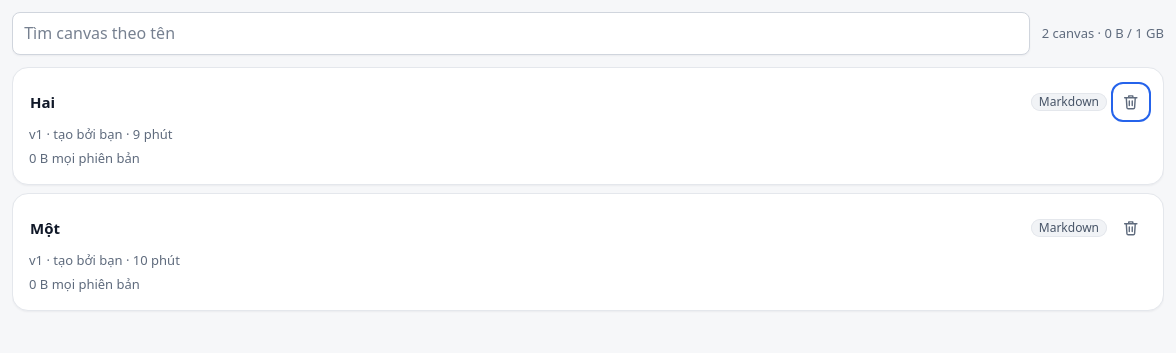
once a canvas is deleted from the library › leaves the keyboard on the button and says nothing when the server would not delete it
Click the button named "Xoá canvas Hai" at (1131, 102), box [1115,86,1147,118]
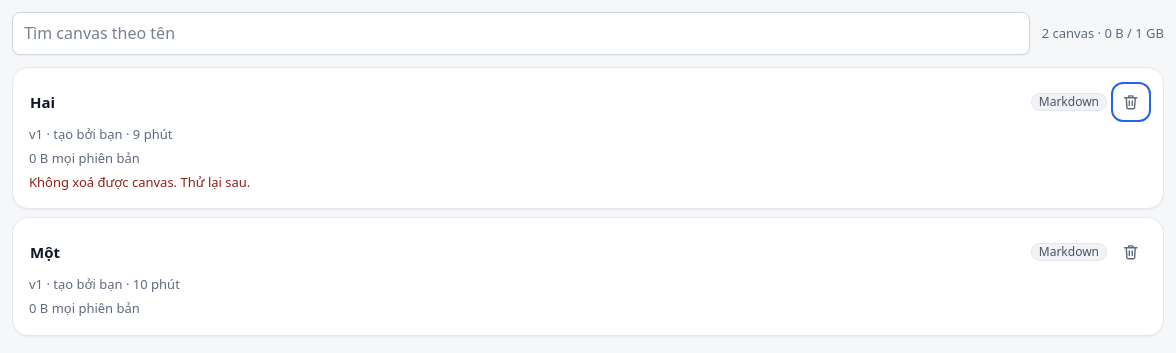
Expected: the message reads "Không xoá được canvas. Thử lại sau.", [29,173,250,191]
